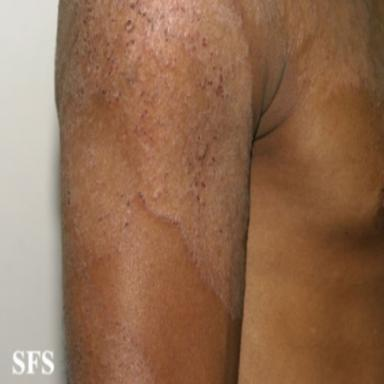Tinea-Corporis: (56, 2, 253, 384), (247, 0, 381, 105)
